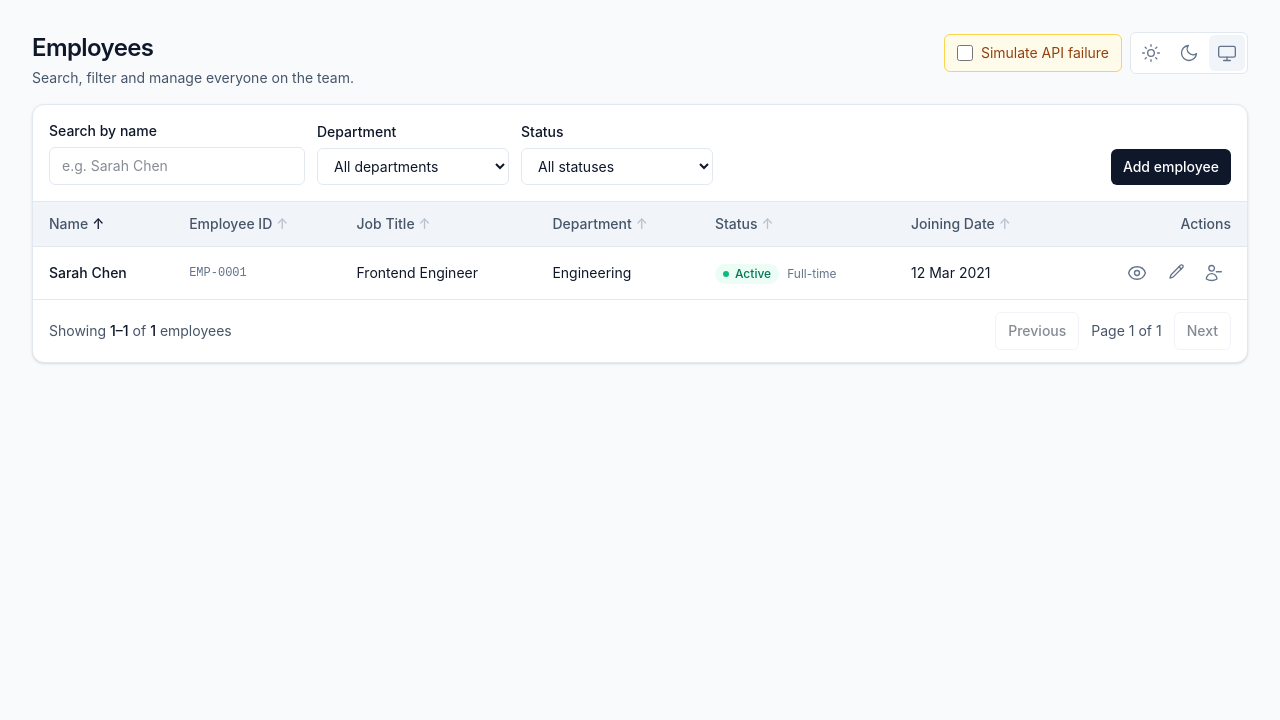
deactivating an employee › does nothing until the action is confirmed
The width and height of the screenshot is (1280, 720).
Check: the table is shown, box [33,202,1247,299]
Click the button named "Deactivate Sarah Chen" at (1213, 273), box [1195,255,1231,291]
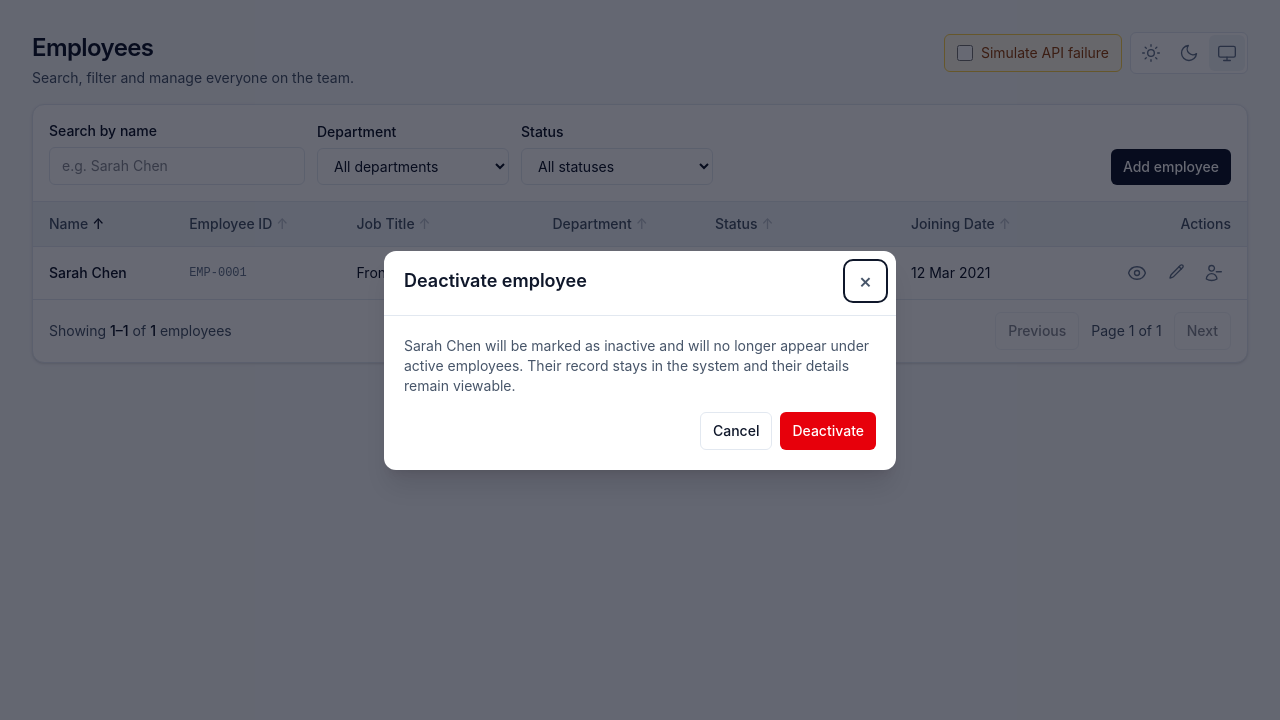
Check: the text "will be marked as inactive" is shown, box [404,336,869,394]
Click the button "Cancel" at (736, 430), box [700,412,772,450]
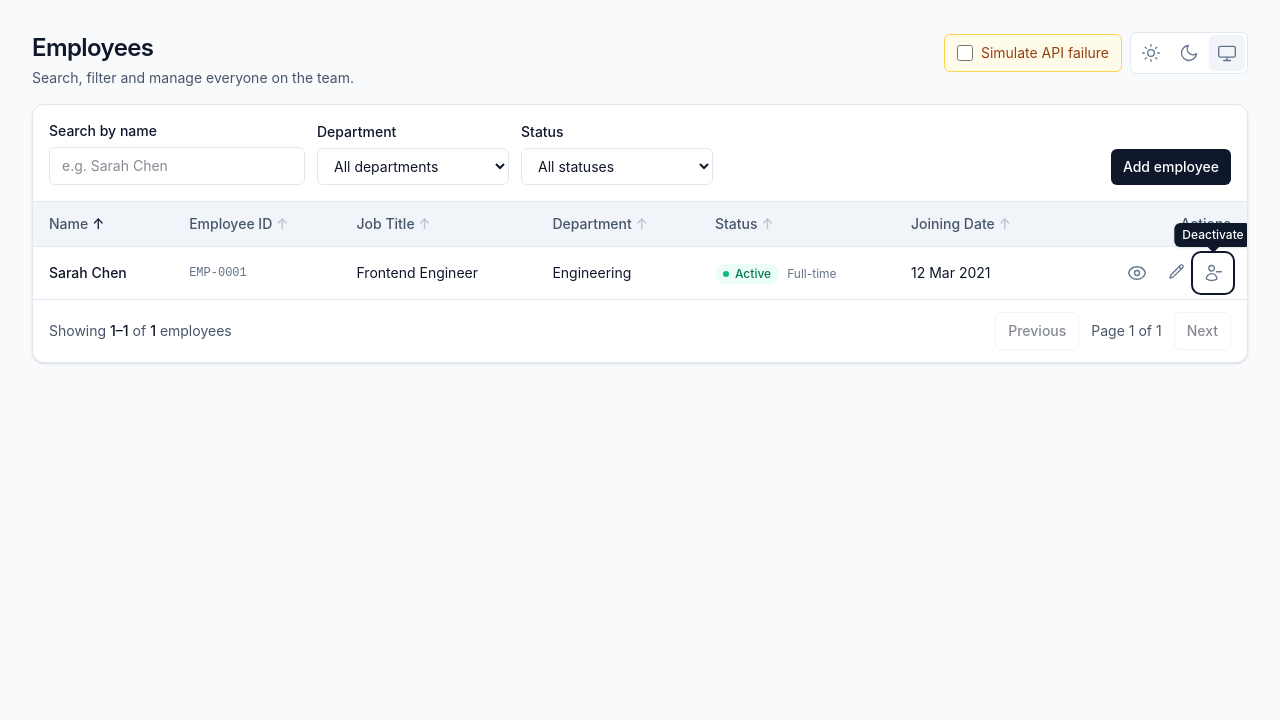
Check: the text "Active" is shown, box [715,264,779,284]
Check: the text "will be marked as inactive" is gone
